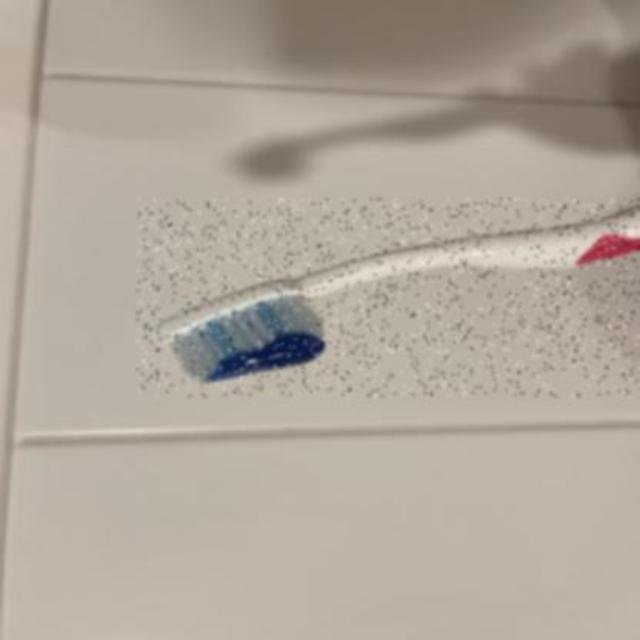toothbrush: (136, 199, 640, 397)
